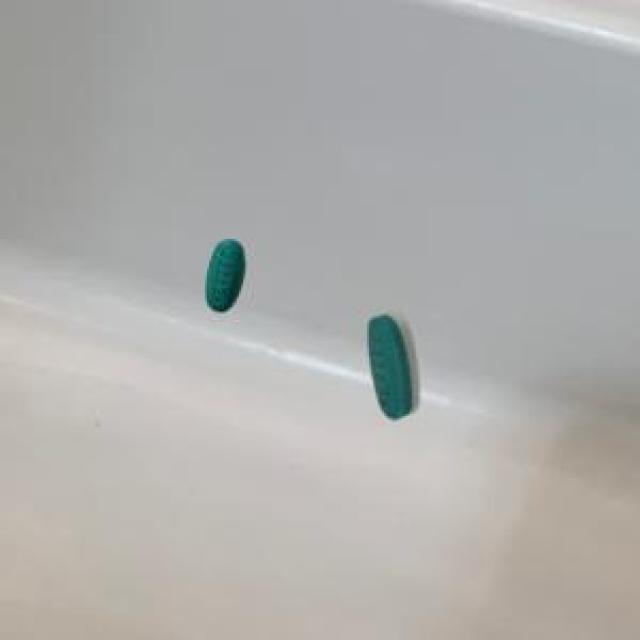Neozep: (348, 307, 433, 426), (196, 230, 251, 322)
